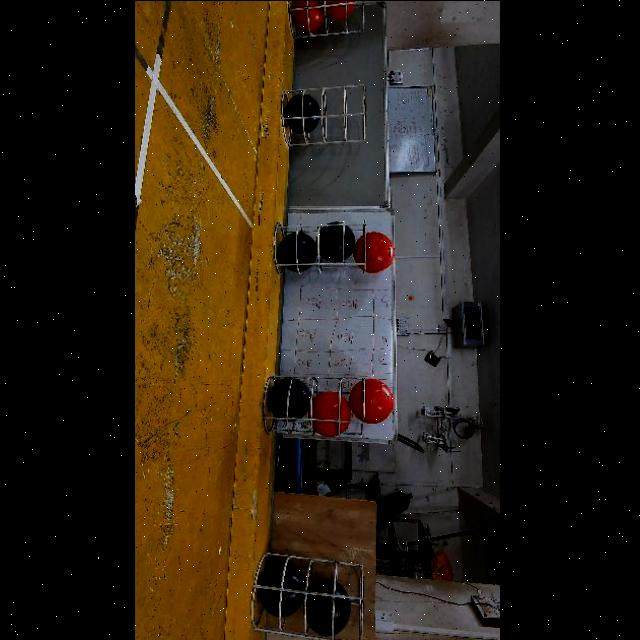P: (259, 558, 306, 616), (307, 578, 353, 636), (269, 377, 312, 421), (279, 231, 318, 272), (284, 93, 321, 134), (319, 221, 356, 262)
R: (350, 377, 394, 423), (313, 390, 354, 436), (354, 231, 396, 272), (292, 0, 326, 32), (326, 0, 356, 21)
S: (246, 556, 374, 640), (262, 368, 364, 440), (278, 80, 374, 150), (274, 214, 372, 278), (294, 0, 372, 40)
